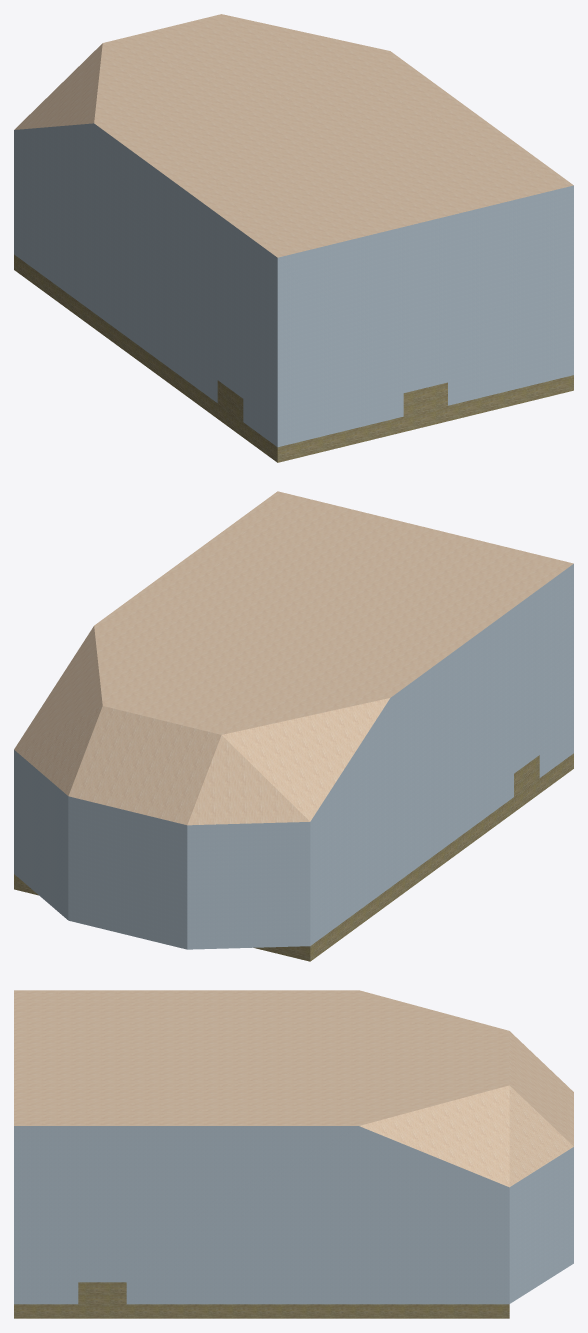
The model's file is TheatreTest.gltf.
3 views of the same model, one above another, from view 1: azimuth 30°, elevation 25°; view 2: azimuth 150°, elevation 25°; view 3: azimuth 270°, elevation 25° (orthographic). The views are drawn at different scales.
Visible parts, largest first — view 1: PlasterSmooth, PlasterRough, WoodPanel; view 2: PlasterRough, PlasterSmooth, WoodPanel; view 3: PlasterSmooth, PlasterRough, WoodPanel.
Part boxes in pixels (x1,y1,x2,y2): PlasterSmooth: [14, 123, 573, 447]; PlasterRough: [14, 14, 573, 257]; WoodPanel: [14, 254, 573, 462]; PlasterRough: [14, 491, 573, 825]; PlasterSmooth: [14, 564, 573, 949]; WoodPanel: [14, 753, 573, 961]; PlasterSmooth: [14, 1126, 573, 1304]; PlasterRough: [14, 990, 573, 1187]; WoodPanel: [14, 1282, 509, 1318].
Bounding box in the file's own units: 19.95 × 13.2 × 34.75.
Materials: 3 (3 with a texture image).
